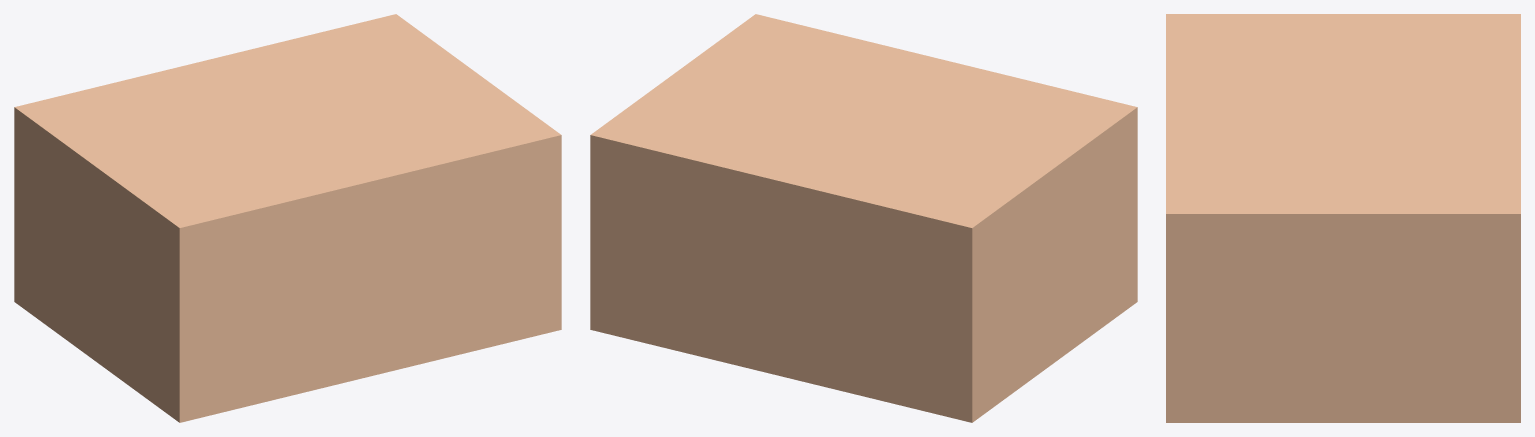
Rendered from brick pile.gltf.
3 views of the same model, side by side, from view 1: azimuth 30°, elevation 25°; view 2: azimuth 150°, elevation 25°; view 3: azimuth 270°, elevation 25° (orthographic). The views are drawn at different scales.
Parts seen in each view (by area): view 1: Brick (×69); view 2: Brick (×69); view 3: Brick (×54).
Boxes of the visible parts, x1,y1,x2,y2 form: Brick (×69): (14, 14, 561, 422); Brick (×69): (590, 14, 1137, 422); Brick (×54): (1166, 14, 1520, 422).
Bounding box in the file's own units: 0.8 × 0.39 × 0.6.
